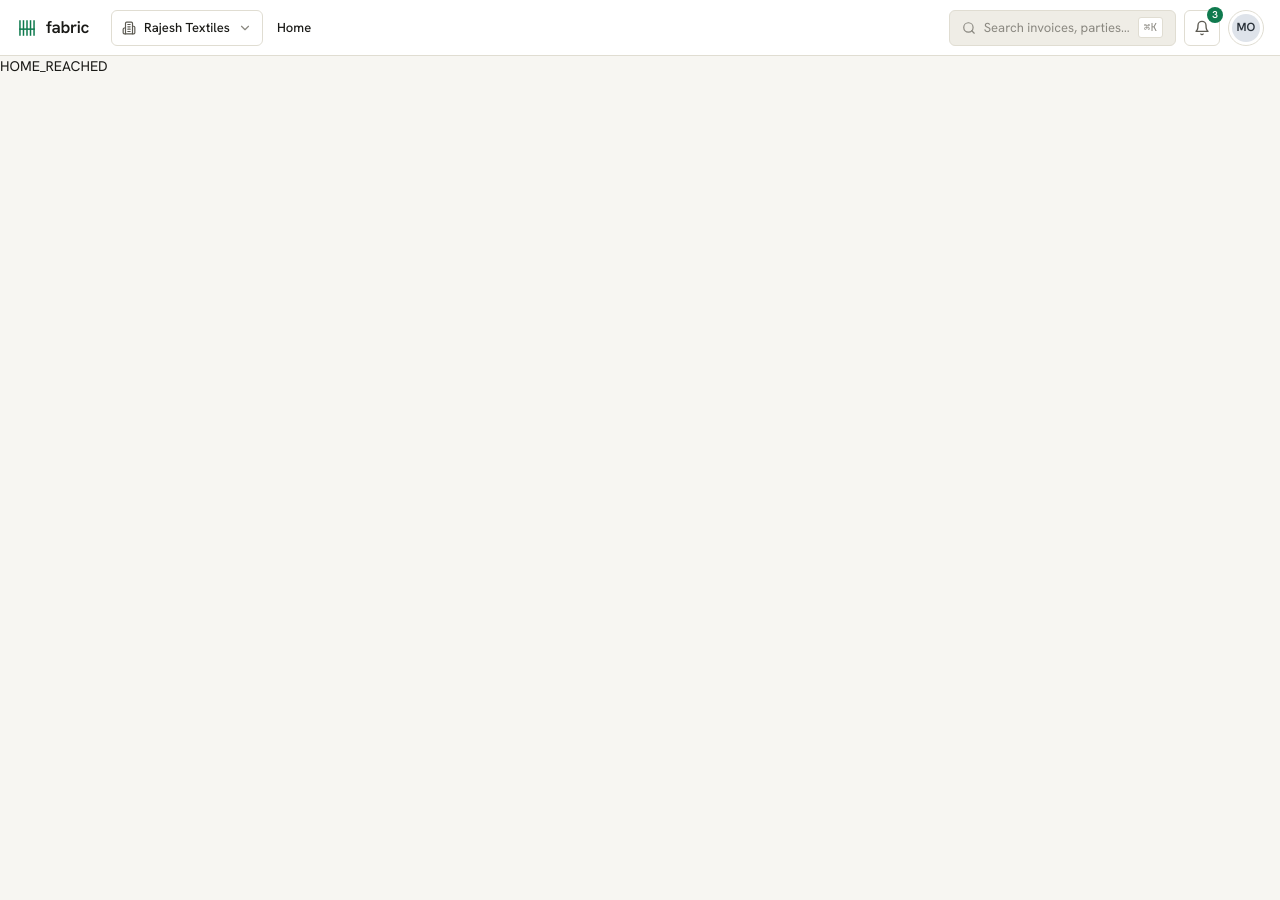
Test: CommandPalette (T8) › shows an empty state when no result matches
The width and height of the screenshot is (1280, 900).
Click the button with aria-label "open command palette".
click(1062, 28)  # box [949,10,1176,46]
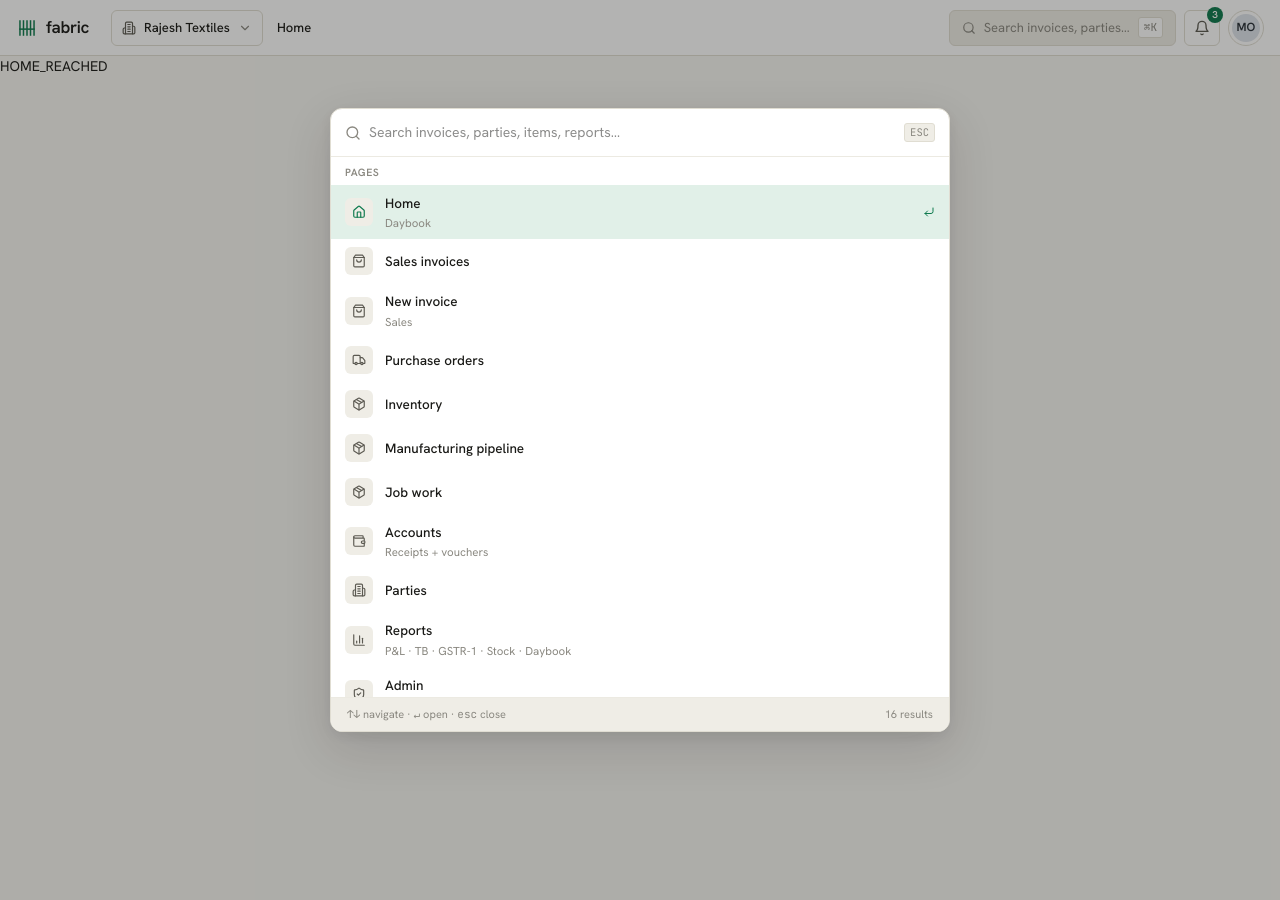
Type "zzzzzzzz-no-such-thing" into the field named "command palette search".
click(633, 132); type("zzzzzzzz-no-such-thing")  # box [369,122,896,143]
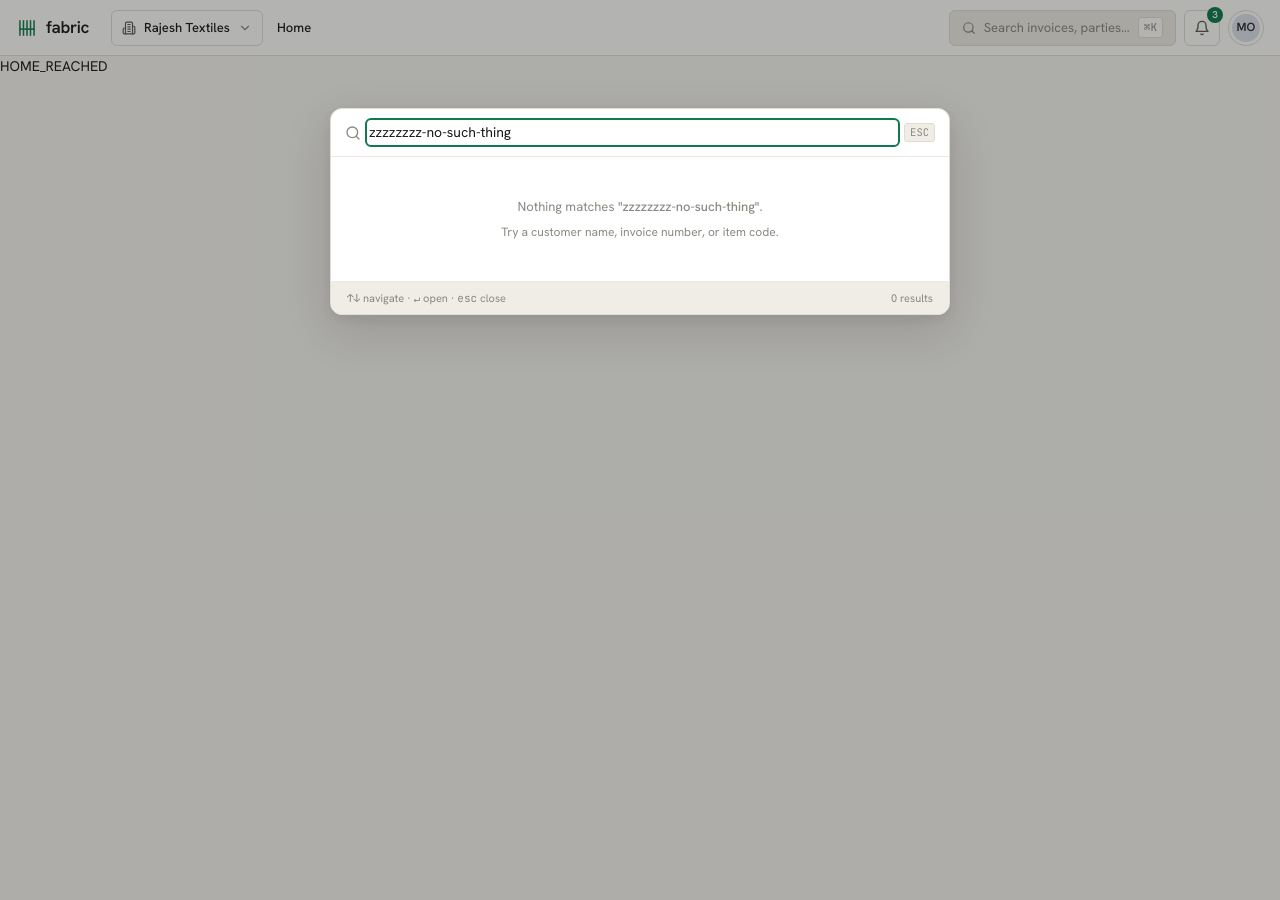
Expected: the list item "Nothing matches" is shown, [518,198,618,215]
